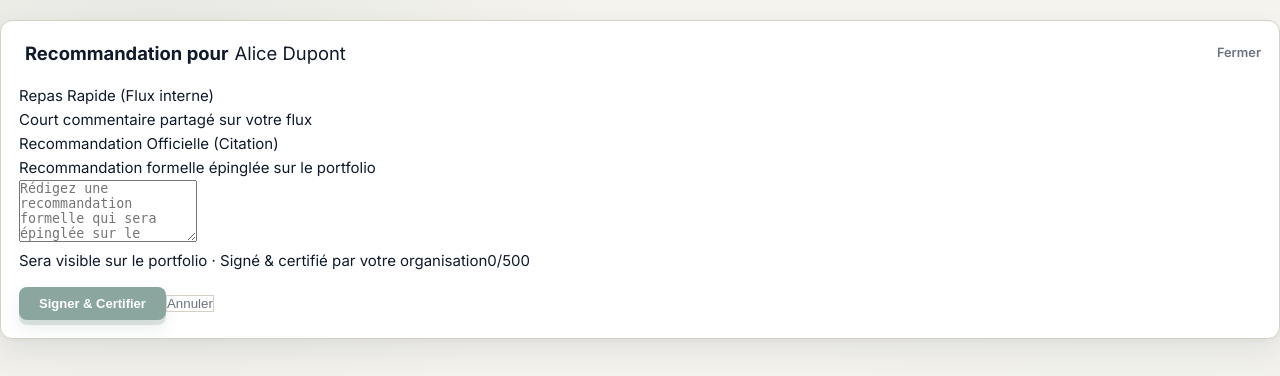
RecommendationForm.vue — Tests d'Intégration › 12 — saisie dans textarea active le bouton envoyer
Replace the text in the text box with class "rec-textarea" with "Un excellent candidat pour ce poste." at (108, 211), box [19,180,197,242]
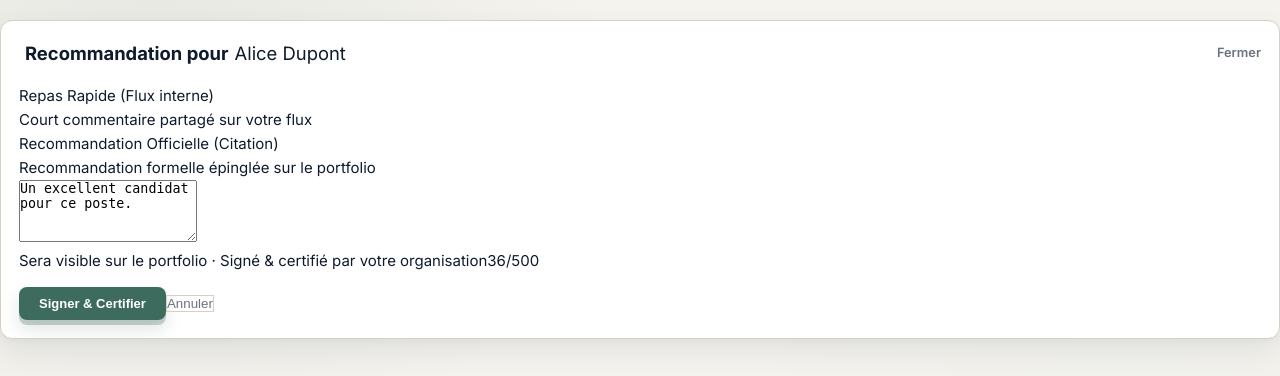
Expected: the button with class "btn-action" showing "Signer & Certifier" is enabled, [19,287,166,320]
